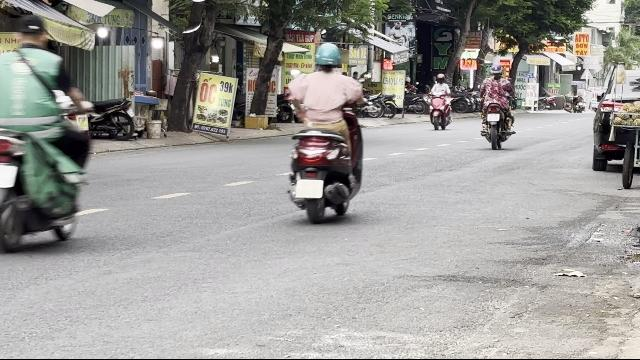helmet: (313, 42, 342, 70)
licenseplate: (296, 180, 322, 198)
motorcyclist: (0, 17, 96, 255), (282, 40, 368, 224)
nohelmet: (12, 15, 48, 51)
